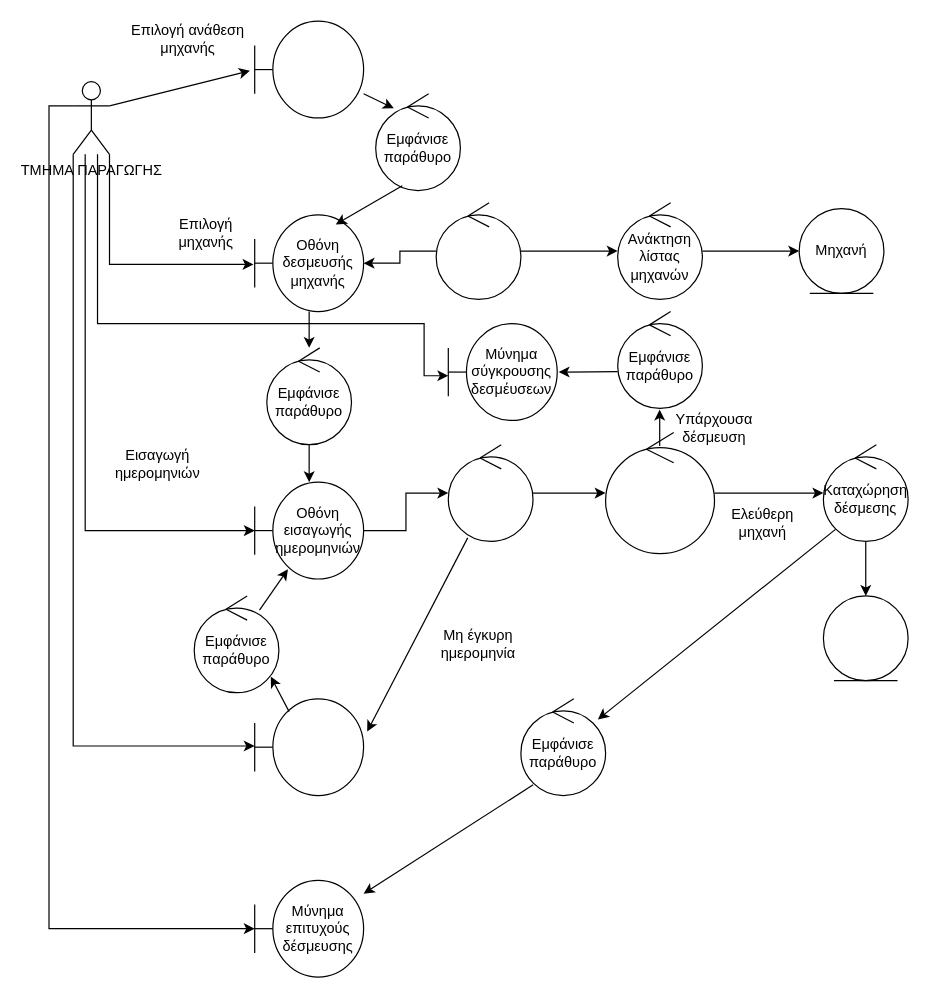
This 929x998 diagram has some shape labels left out. Each missing label, with the box of its shape:
Έλεγχος διαθεσιμότητας μηχανής: (604, 431, 715, 554)
Έλεγχος εγκυρότητας ημερομηνιών: (447, 443, 533, 541)
Έργο: (822, 595, 908, 681)
Εμφάνιση λίστας μηχανών: (435, 201, 521, 299)
Μενού τμήματος παραγωγής: (253, 20, 364, 118)
Μύνημα σφάλματος ημερομηνίας: (253, 698, 364, 796)
